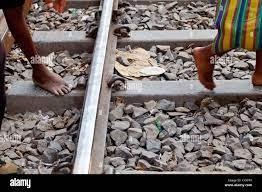mulch: (118, 48, 164, 89)
